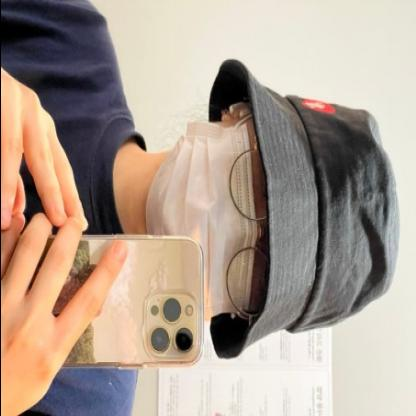glasses: (224, 128, 272, 334)
hat: (198, 52, 402, 364)
